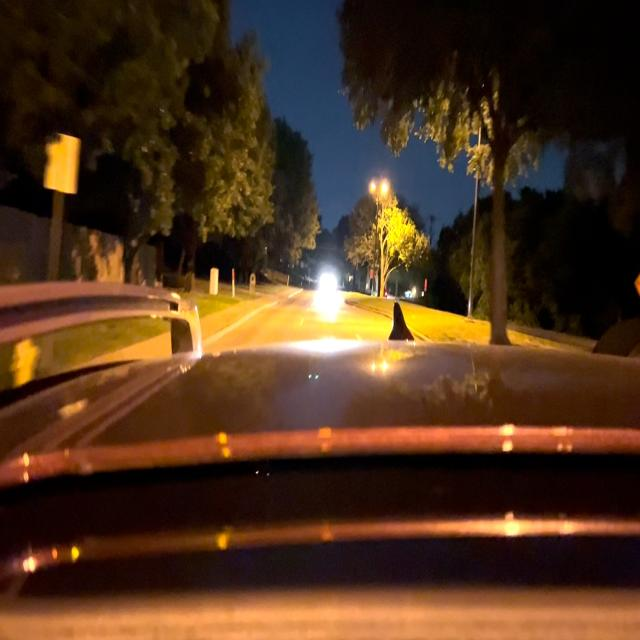back-of-sign: (48, 135, 77, 191)
